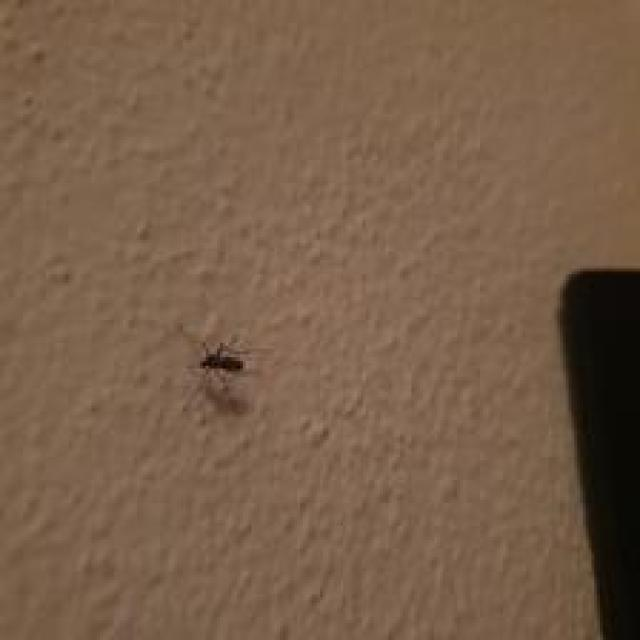Aedes albopictus: (177, 323, 269, 388)
